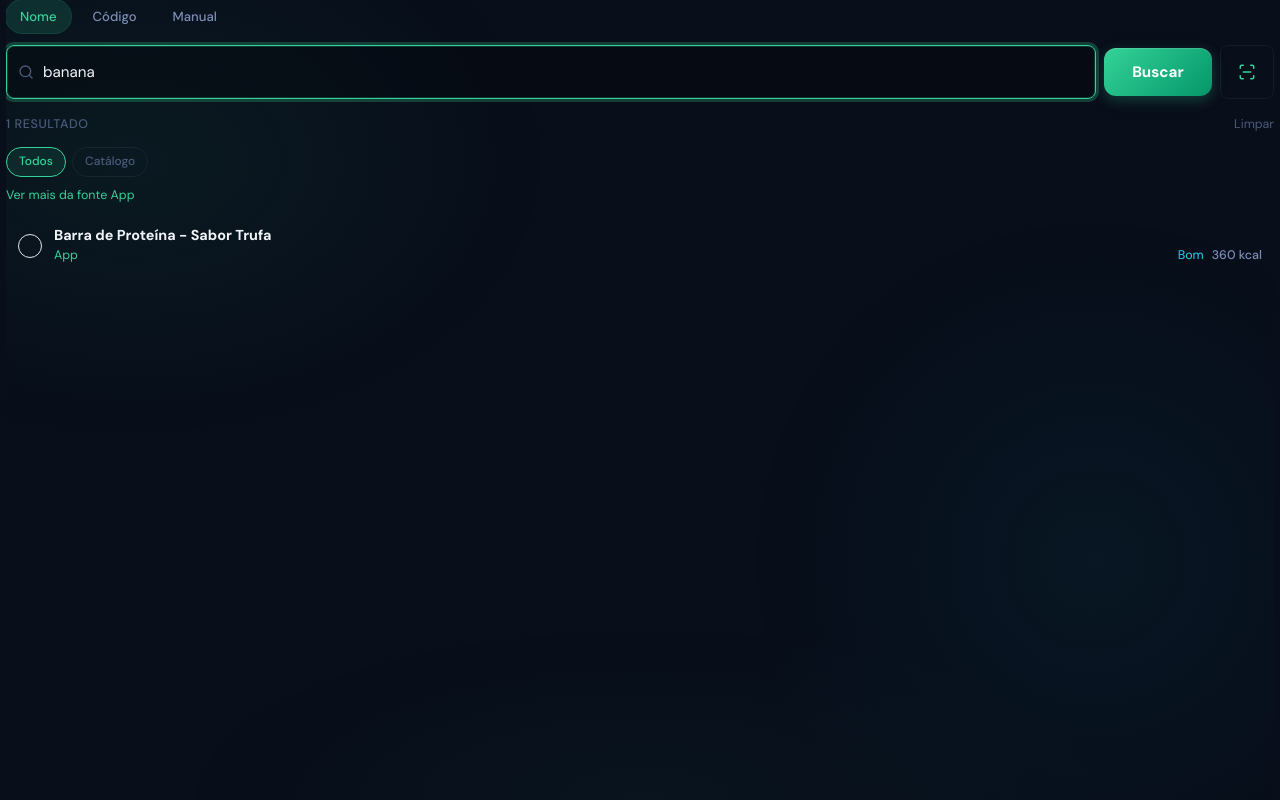
Test: FoodSearchPanel › clears the mobile selection when the user chooses to swap foods
The image size is (1280, 800).
Step 1. Click the button "Barra de Proteína - Sabor Trufa App Bom 360 kcal" → click(163, 235), box [6, 214, 1274, 278]
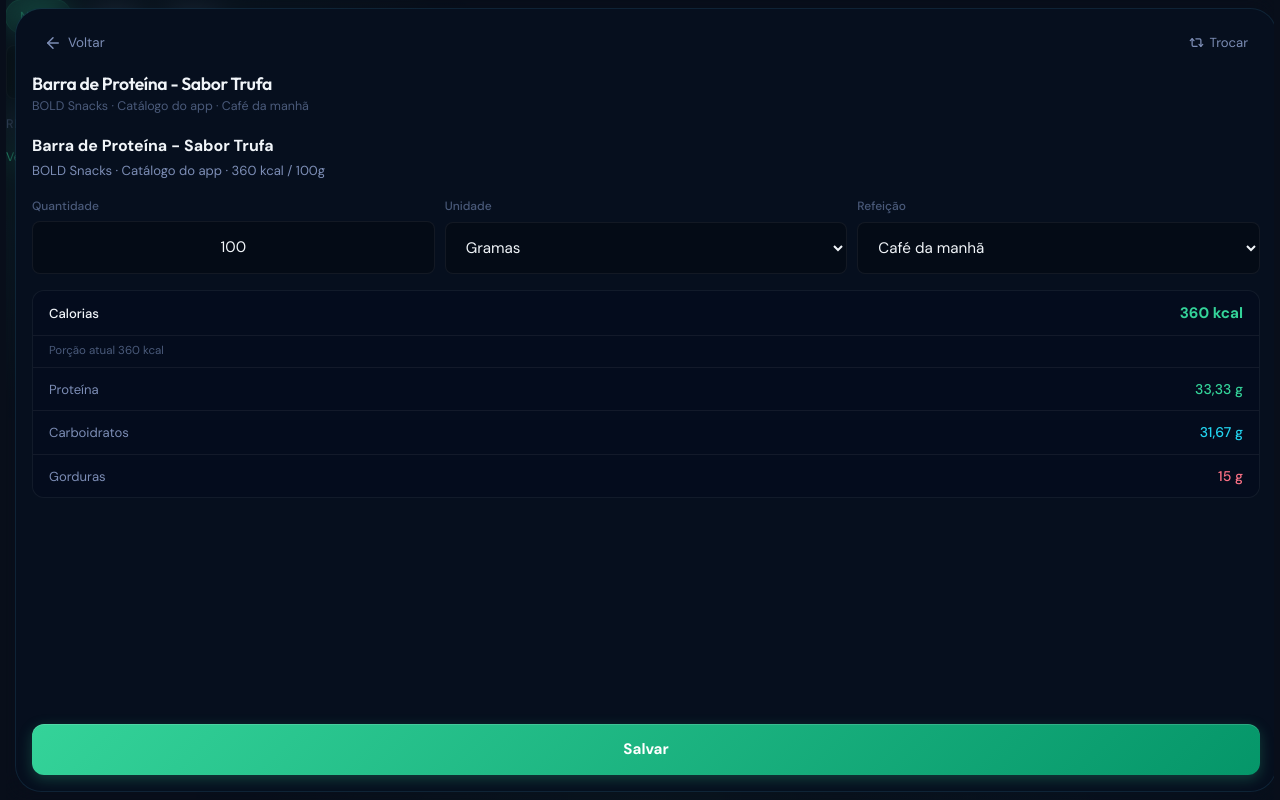
# Composer opens directly on mobile now - find swap via dialog
Step 2. Click the button "Trocar" → click(1218, 43), box [1176, 25, 1260, 61]
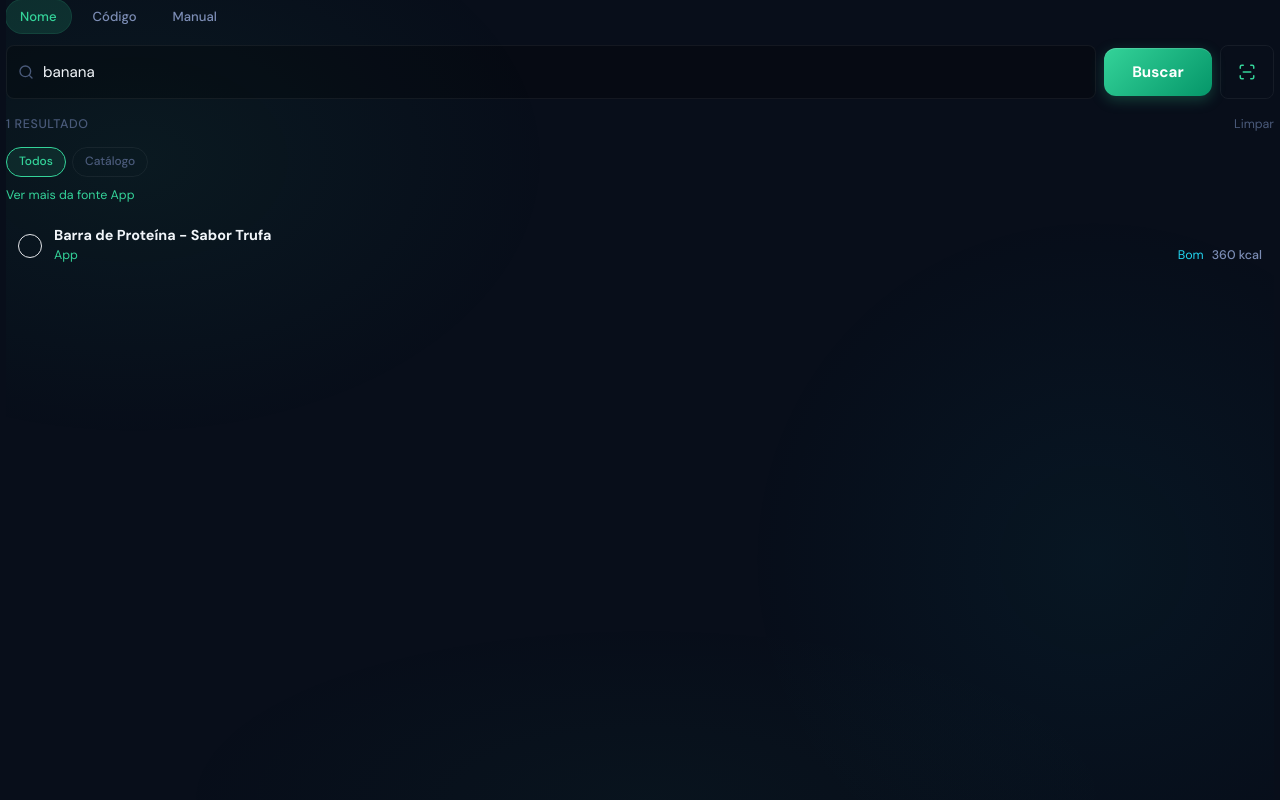
expect the button "Barra de Proteína - Sabor Trufa App Bom 360 kcal" is shown: met, box [6, 214, 1274, 278]
